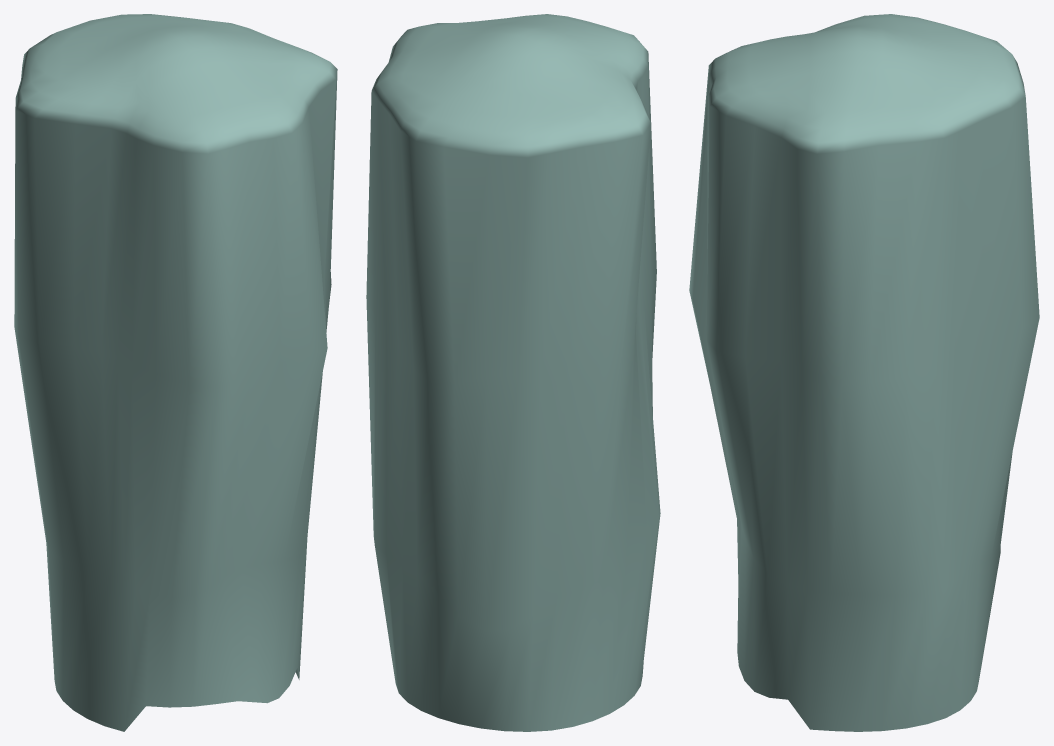
The model's file is SM_Island_004.fbx.
3 views of the same model, side by side, from view 1: azimuth 30°, elevation 25°; view 2: azimuth 150°, elevation 25°; view 3: azimuth 270°, elevation 25° (orthographic).
Parts seen in each view (by area): view 1: SM_Island_004; view 2: SM_Island_004; view 3: SM_Island_004.
Part boxes in pixels (x1=…): SM_Island_004: x1=14, y1=14, x2=337, y2=731; SM_Island_004: x1=366, y1=14, x2=660, y2=731; SM_Island_004: x1=689, y1=14, x2=1039, y2=731.
Bounding box in the file's own units: 3667 × 7829 × 3856.
